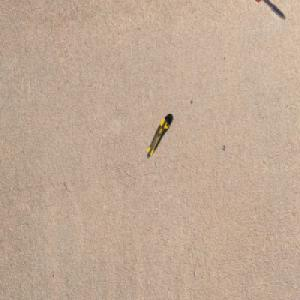Cutter: (145, 115, 171, 159)
